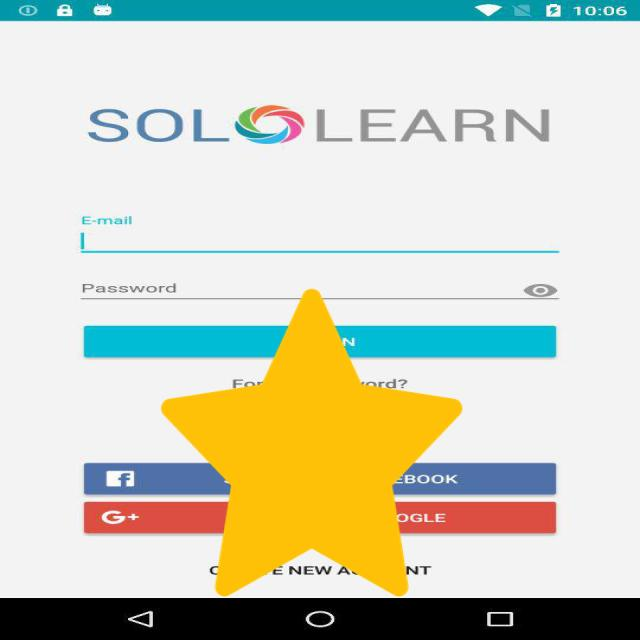forced continuity: (161, 288, 462, 596)
